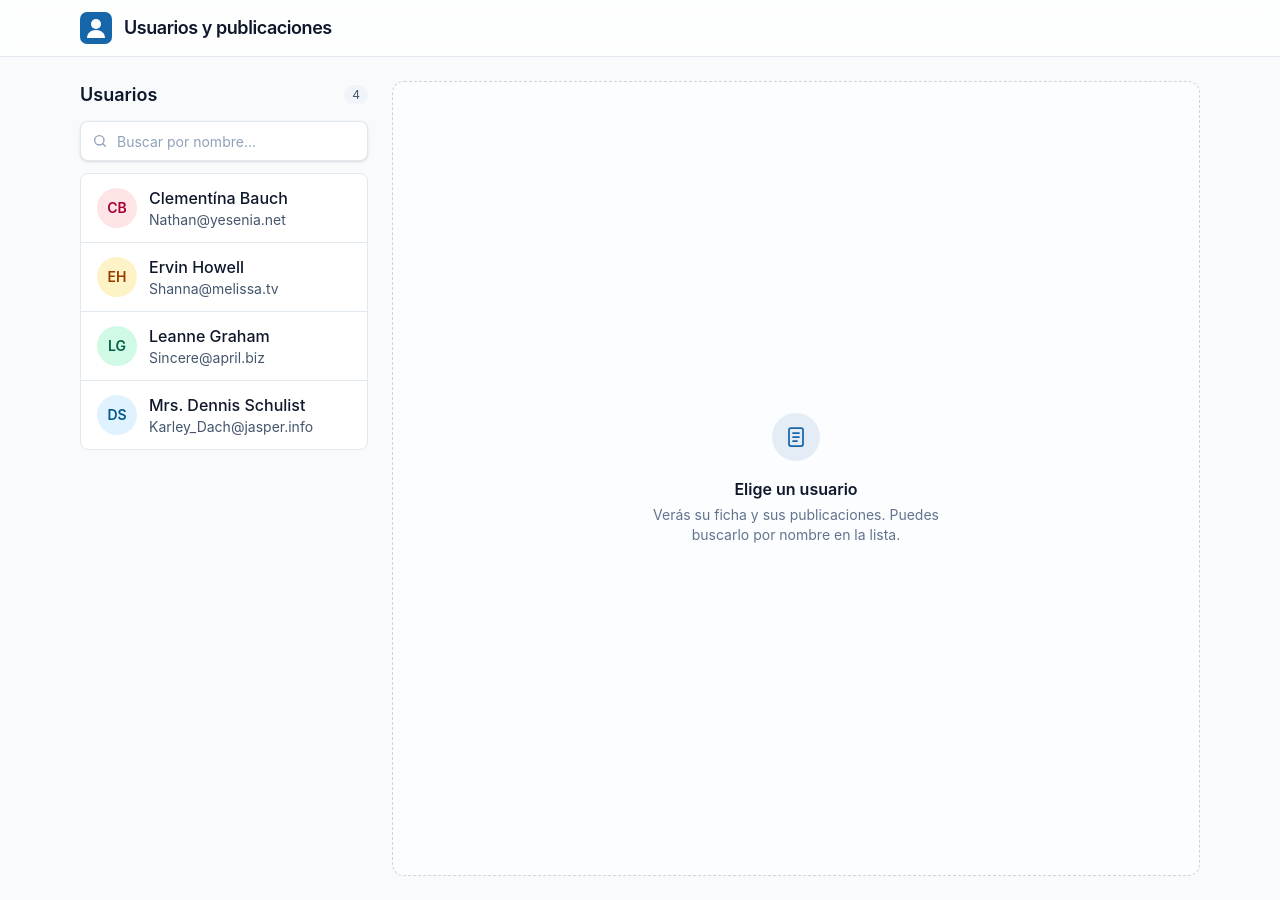
Test case: Lista de usuarios › sin coincidencias, avisa y 'Ver todos los usuarios' vuelve a la lista con el foco en el buscador
Expected: the list is shown, [80,173,368,450]
In the search field named "Buscar usuario por nombre": (224, 141) [80,121,368,161], type "zzz"
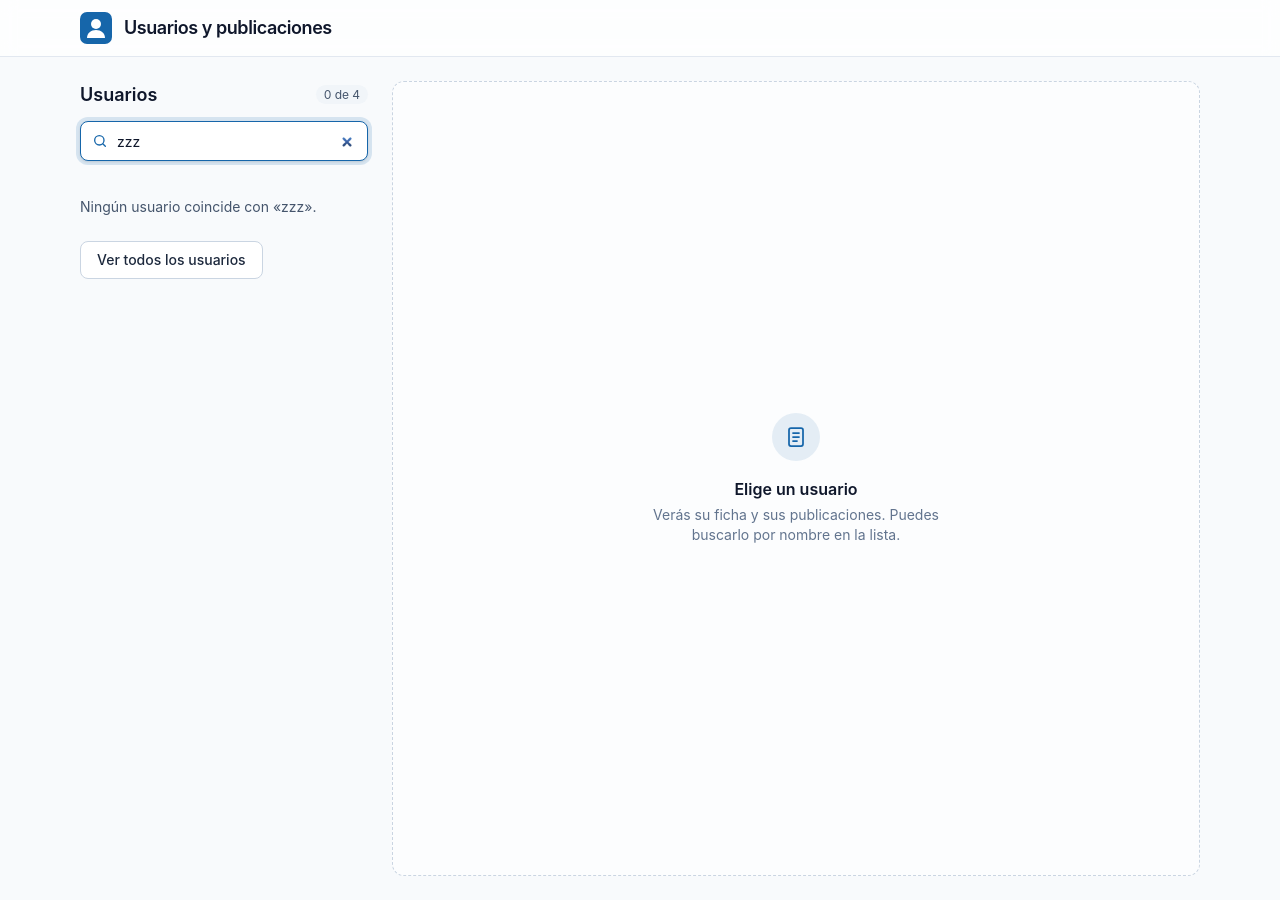
Now the text "Ningún usuario coincide con «zzz»." is shown, box [80,198,316,215]
Click the button "Ver todos los usuarios": (171, 260) [80,241,263,279]
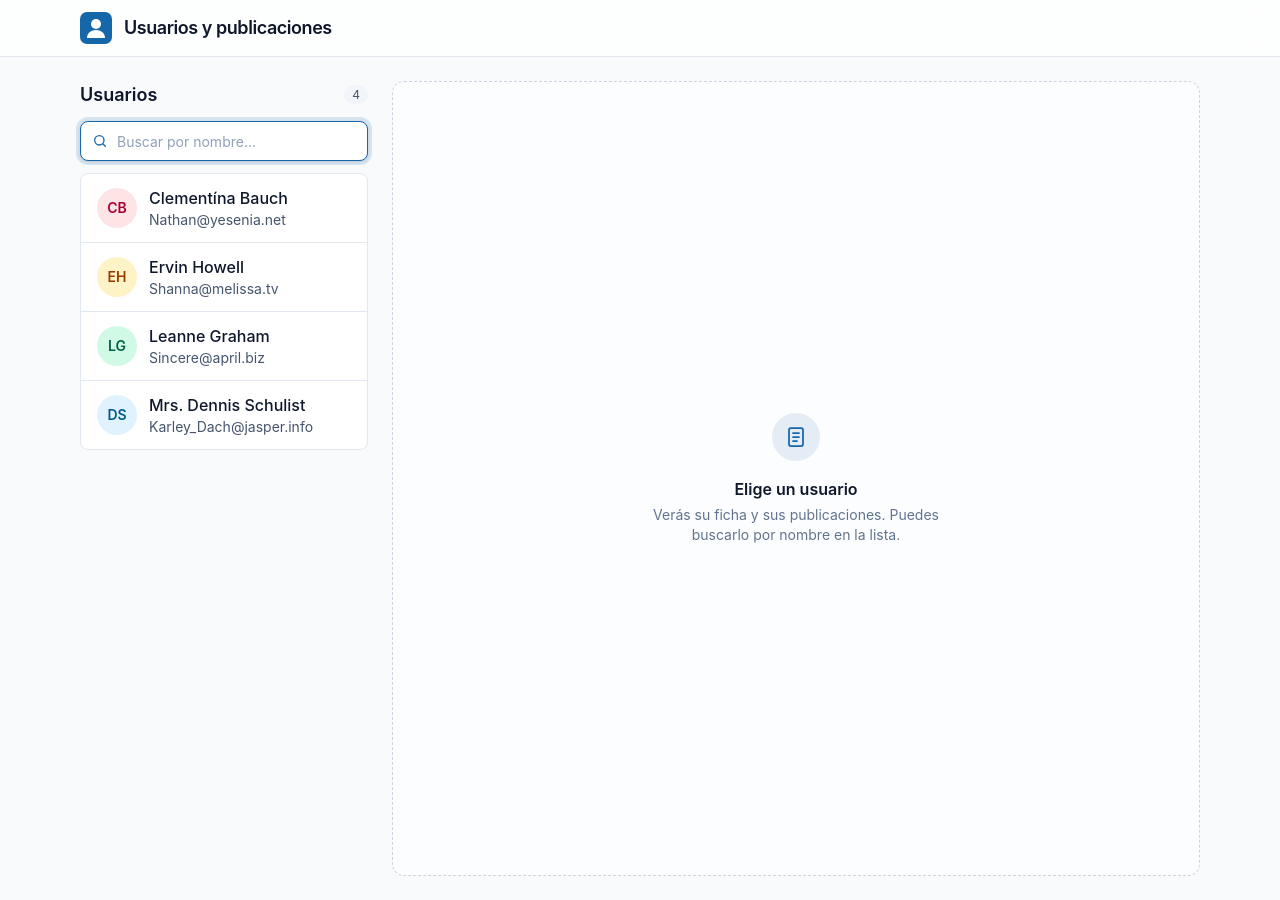
Now the search field named "Buscar usuario por nombre" is empty, box [80,121,368,161]
